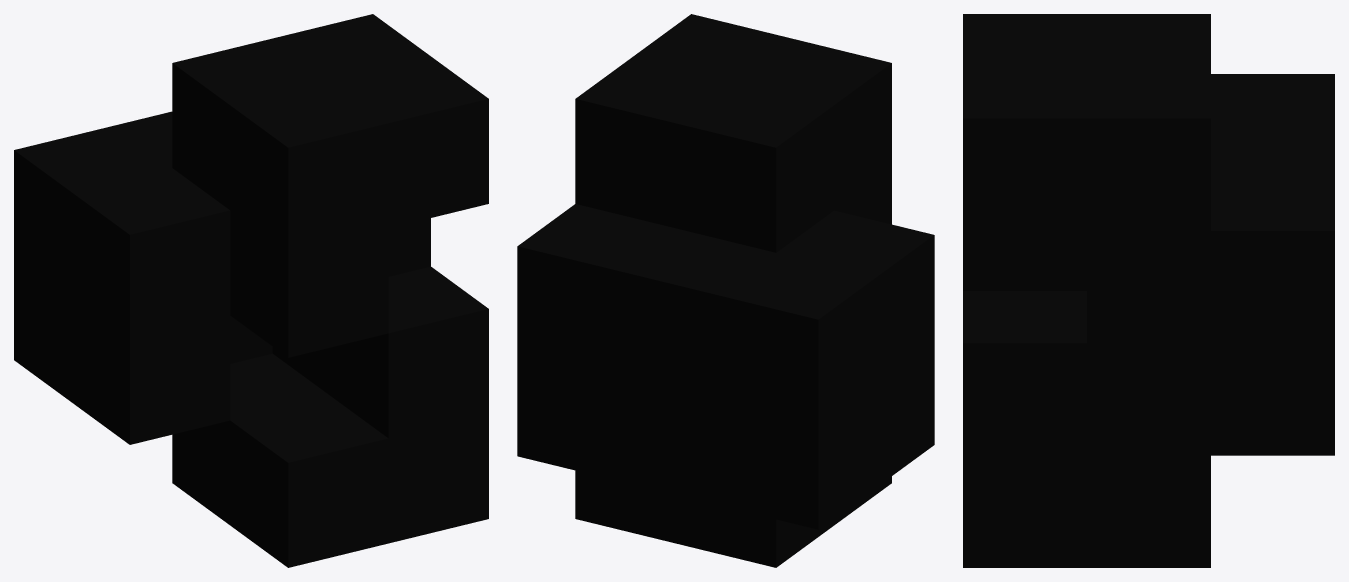
The model's file is Slider_Full_Left.002.fbx.
3 renders of one model, left to right at view 1: azimuth 30°, elevation 25°; view 2: azimuth 150°, elevation 25°; view 3: azimuth 270°, elevation 25°, orthographic. The views are drawn at different scales.
Parts seen in each view (by area): view 1: Slider_Full_Left.002; view 2: Slider_Full_Left.002; view 3: Slider_Full_Left.002.
Boxes of the visible parts, x1,y1,x2,y2 form: Slider_Full_Left.002: [14, 14, 488, 567]; Slider_Full_Left.002: [517, 14, 934, 567]; Slider_Full_Left.002: [963, 14, 1334, 567].
Size of the model in its own units: 0.3 by 0.4 by 0.3.
